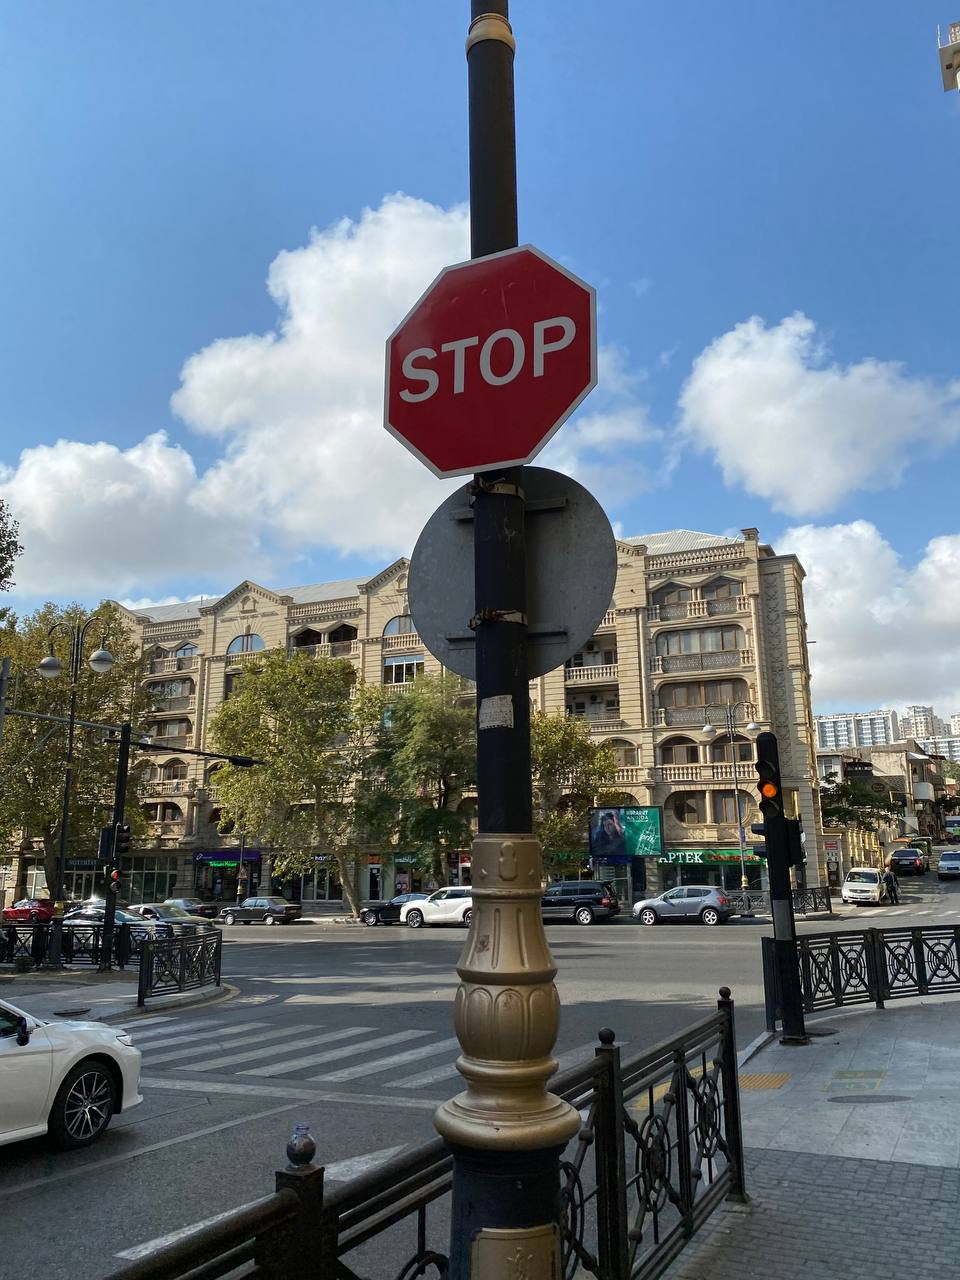STOP: (382, 243, 598, 480)
